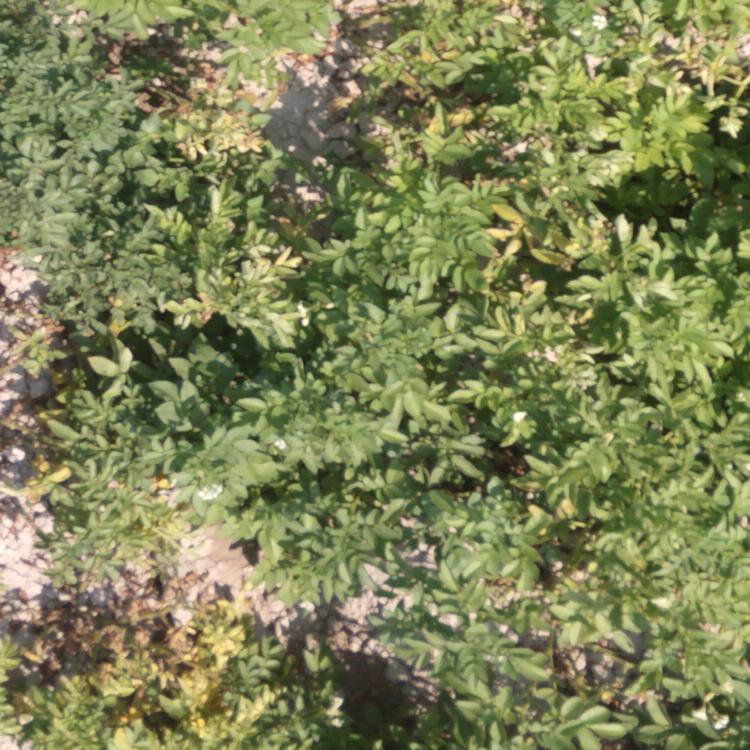healthy: (157, 324, 750, 515), (321, 525, 750, 740), (603, 2, 748, 324), (1, 1, 147, 269), (342, 3, 595, 102), (325, 122, 425, 322)
stressed: (6, 516, 312, 746), (150, 1, 315, 321), (438, 110, 606, 320), (3, 277, 143, 502)
